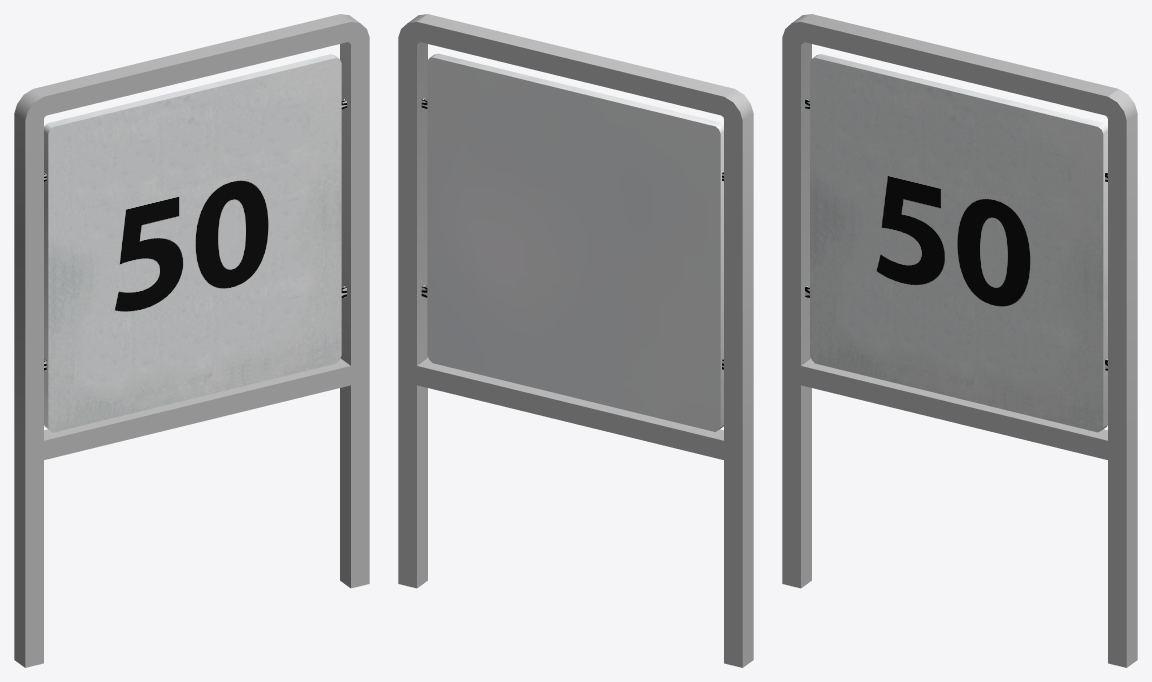
The model's file is Track_Sign_50_Black.fbx.
3 views of the same model, side by side, from view 1: azimuth 30°, elevation 25°; view 2: azimuth 150°, elevation 25°; view 3: azimuth 330°, elevation 25° (orthographic).
Visible parts, largest first — view 1: Speed_50, Frame1; view 2: Speed_50, Frame1; view 3: Speed_50, Frame1.
Part boxes in pixels (left/top/right/bottom): Speed_50: left=44, top=54, right=346, bottom=432; Frame1: left=14, top=14, right=369, bottom=667; Speed_50: left=421, top=53, right=723, bottom=431; Frame1: left=398, top=14, right=753, bottom=667; Speed_50: left=805, top=54, right=1107, bottom=432; Frame1: left=782, top=14, right=1137, bottom=667.
Bounding box in the file's own units: 130 × 204 × 7.
